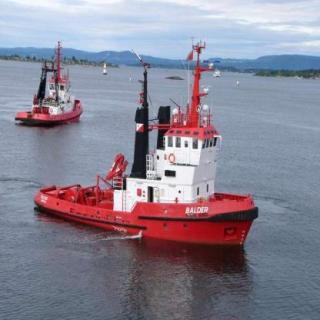Tug Boat: (39, 30, 252, 241)
